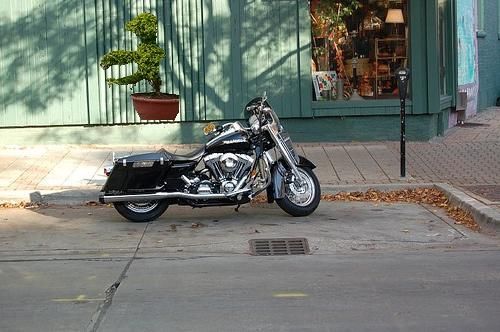tampered: (101, 13, 179, 120)
